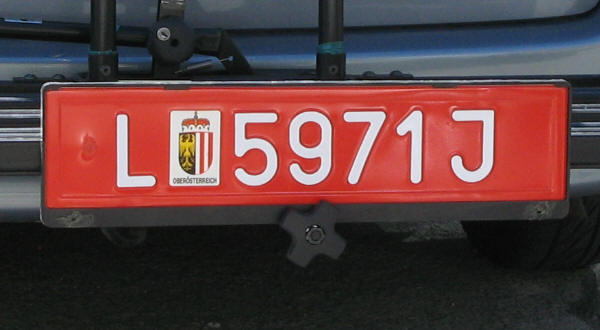license_plate: (43, 86, 568, 203)
